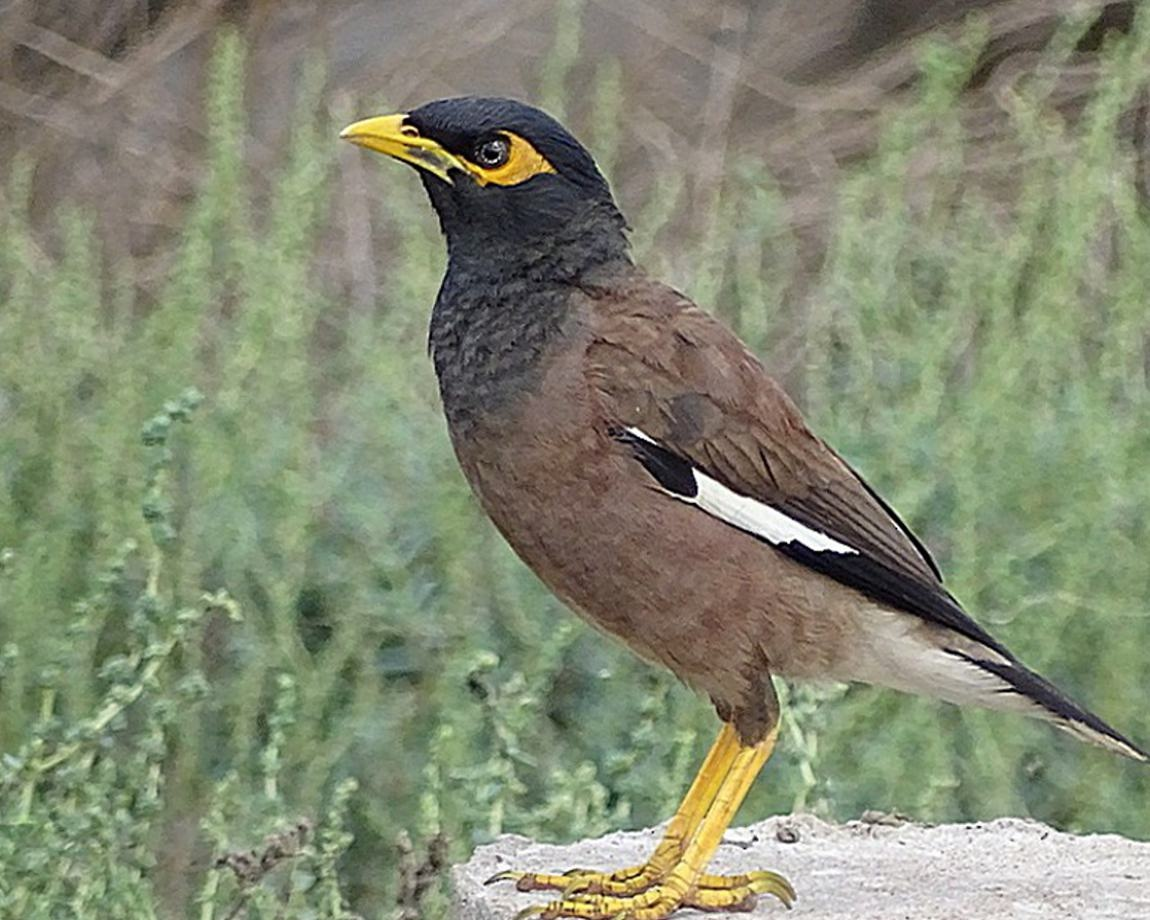myna: (319, 65, 1075, 920)
